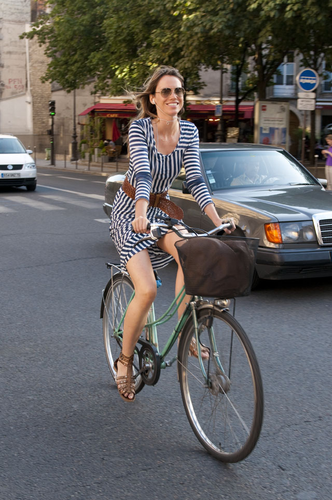bikerider: (76, 60, 297, 473)
